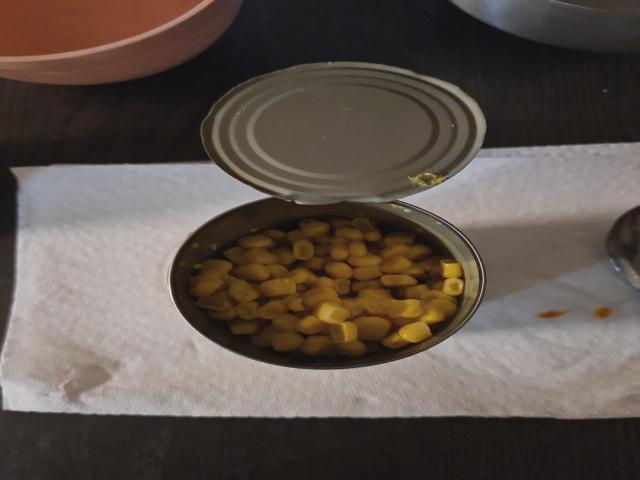kichen waste: (190, 220, 462, 355)
